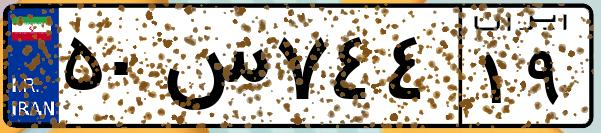0: (110, 28, 158, 98)
1: (475, 38, 525, 113)
4: (385, 28, 445, 110), (330, 28, 385, 110)
5: (57, 26, 110, 100)
7: (270, 28, 330, 110)
9: (525, 38, 570, 115)
س: (158, 20, 270, 120)
